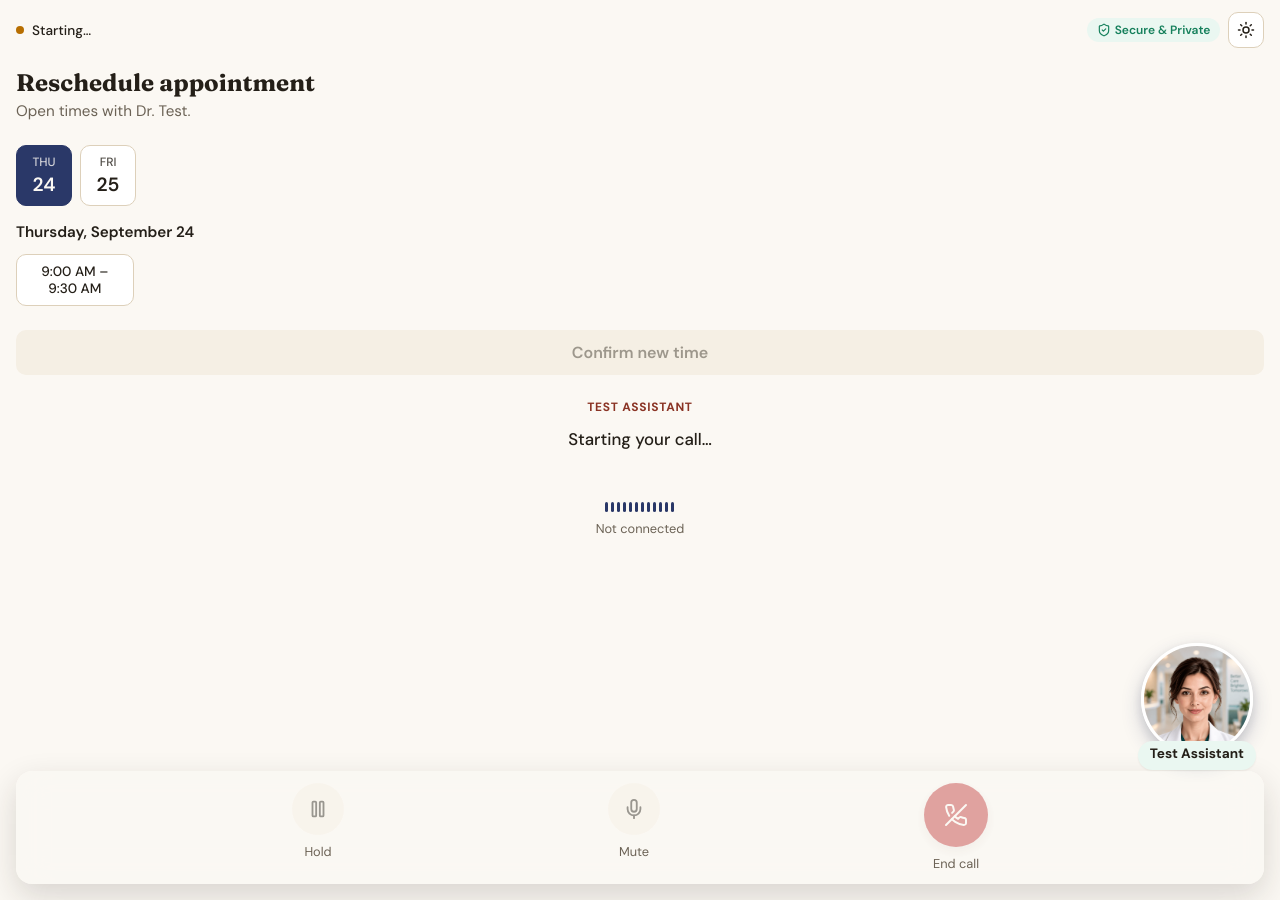
Scenario: AppointmentReschedule › picks the first open date automatically, and switches times when another date is picked
Expected: the button "9:00 AM – 9:30 AM" is shown, [16,254,134,306]
Expected: the text "1:30 PM – 2:00 PM" is not shown
What coordinates should you click on to do the following:
click the button with aria-label "friday, september 25"
I would click on:
 (108, 176)
Its box is [80,145,136,206].
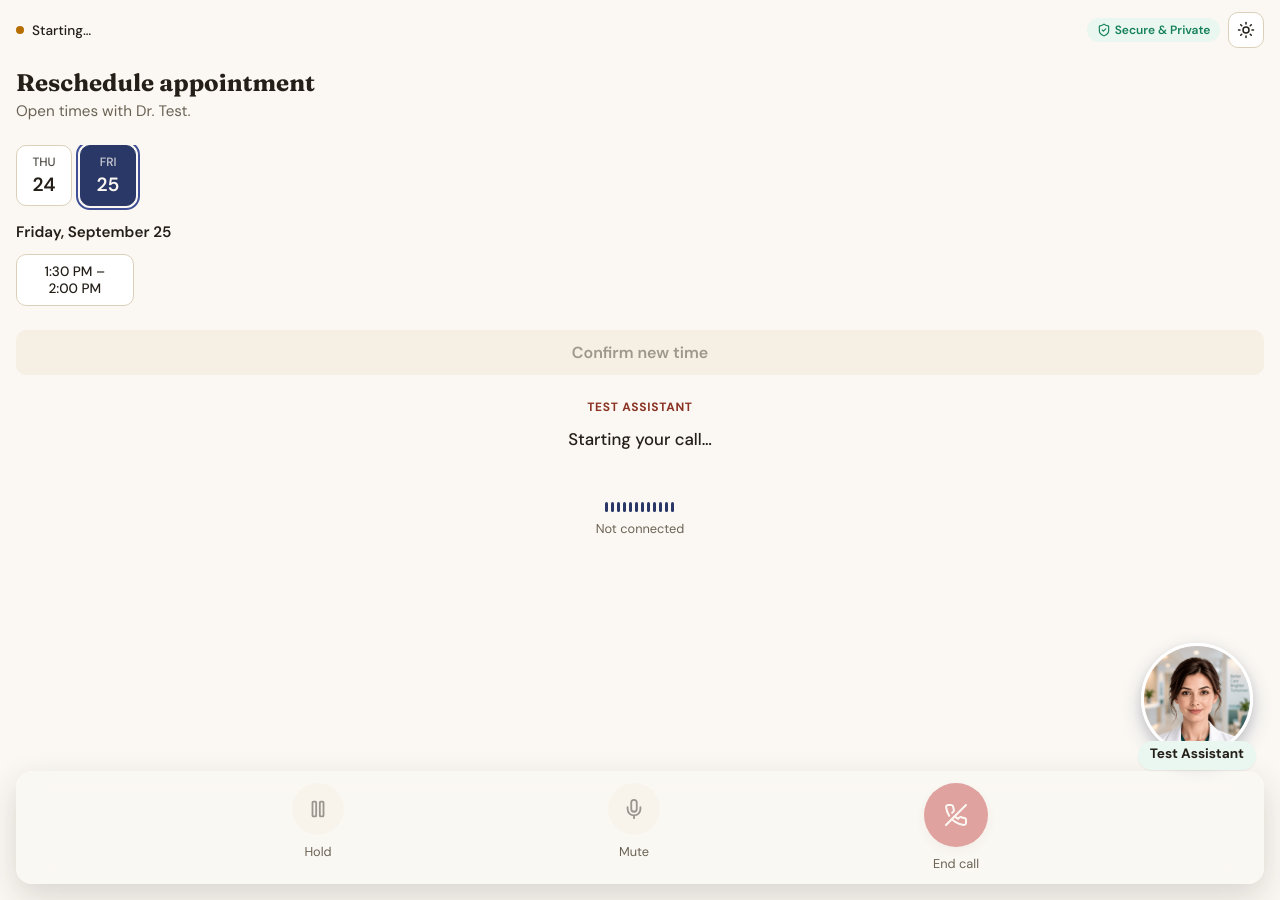
Expected: the button "1:30 PM – 2:00 PM" is shown, [16,254,134,306]
Expected: the button "9:00 AM – 9:30 AM" is gone
